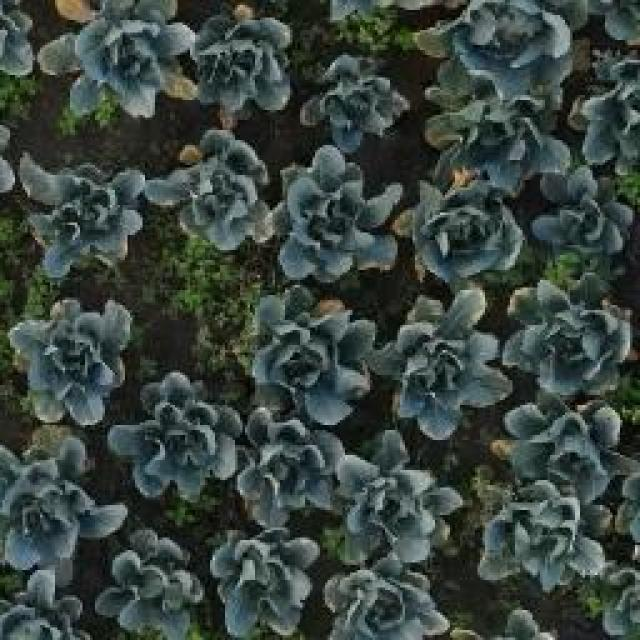cabbage: (377, 288, 505, 441), (37, 0, 197, 118), (272, 141, 403, 280), (243, 287, 374, 417), (0, 432, 122, 569), (10, 295, 134, 426), (501, 284, 639, 400), (336, 438, 458, 564), (233, 401, 353, 528), (391, 178, 524, 289), (156, 132, 274, 255), (21, 153, 140, 273), (112, 374, 235, 490), (434, 0, 578, 99), (475, 484, 601, 592), (205, 522, 320, 640), (431, 88, 567, 185), (191, 0, 297, 119), (97, 525, 205, 640), (506, 403, 623, 501), (529, 168, 639, 266), (320, 557, 449, 640), (300, 53, 408, 147)
